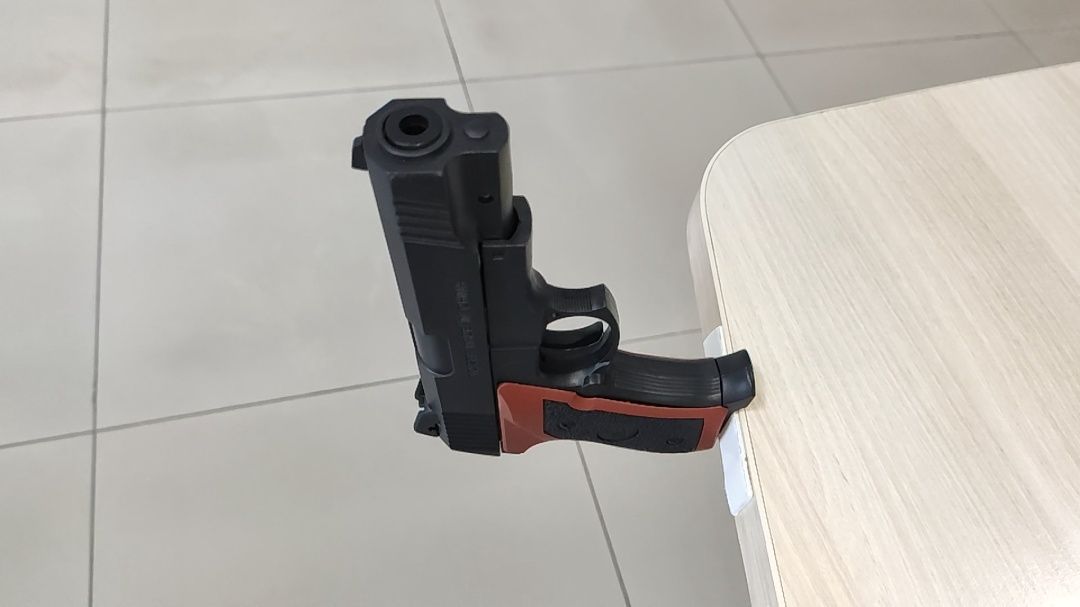gun: (348, 202, 563, 345)
